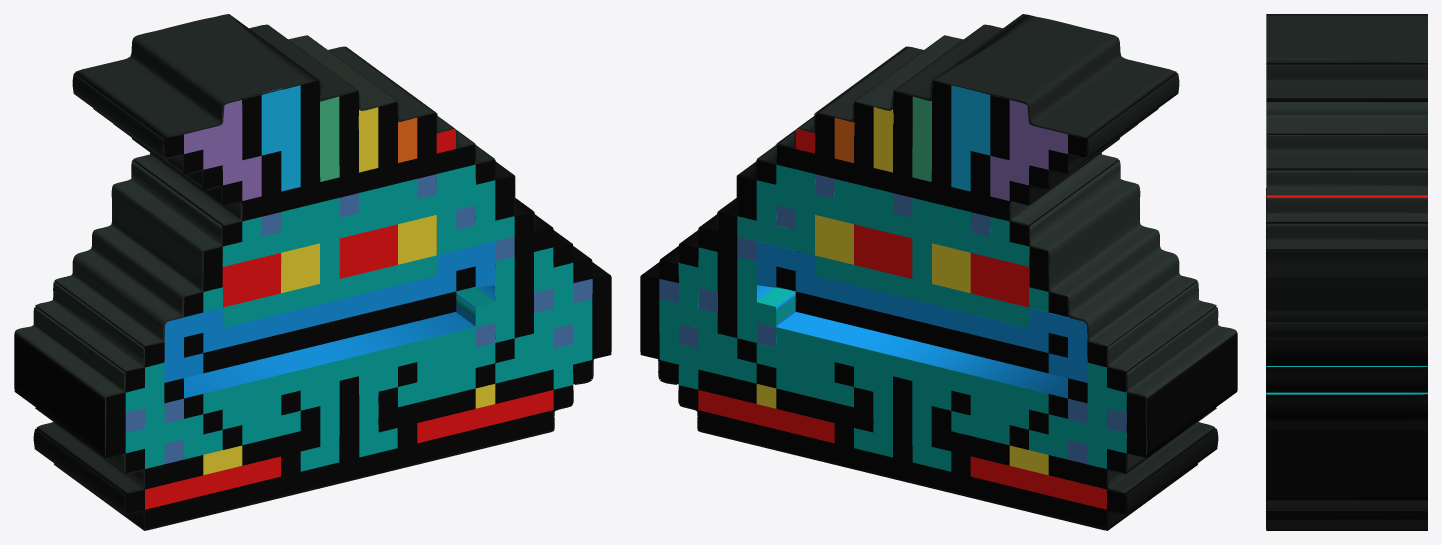
The model's file is Toadz_6390.glb.
3 renders of one model, left to right at view 1: azimuth 30°, elevation 25°; view 2: azimuth 150°, elevation 25°; view 3: azimuth 270°, elevation 25°, orthographic. The views are drawn at different scales.
Visible parts, largest first — view 1: Curve; view 2: Curve; view 3: Curve.
Boxes of the visible parts, x1=… form: Curve: x1=14, y1=14, x2=611, y2=530; Curve: x1=640, y1=14, x2=1237, y2=530; Curve: x1=1266, y1=14, x2=1427, y2=530.
Bounding box in the file's own units: 3.24 × 2.51 × 1.
